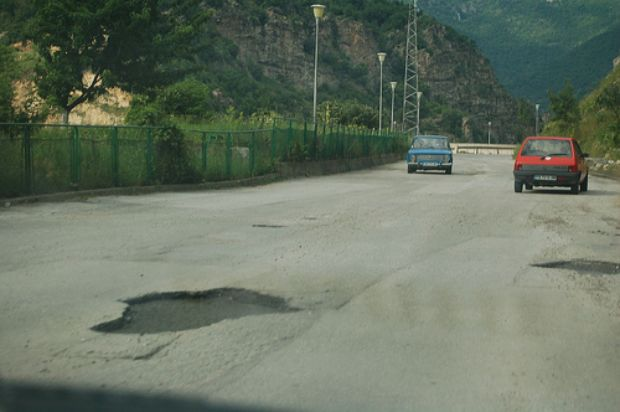pothole: (85, 281, 302, 337)
